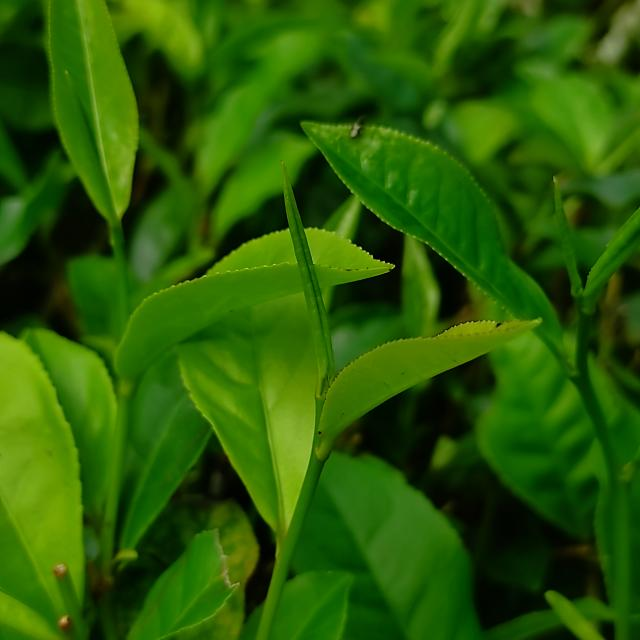unopened_leaf: (276, 149, 344, 406), (54, 58, 134, 242), (546, 162, 594, 308)
